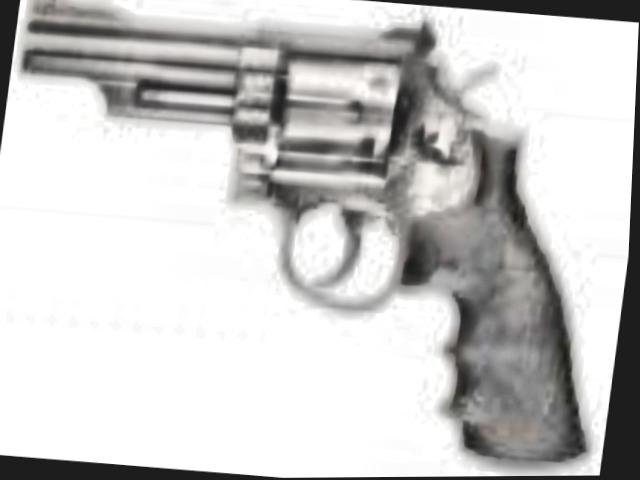pistol: (0, 0, 631, 469)
